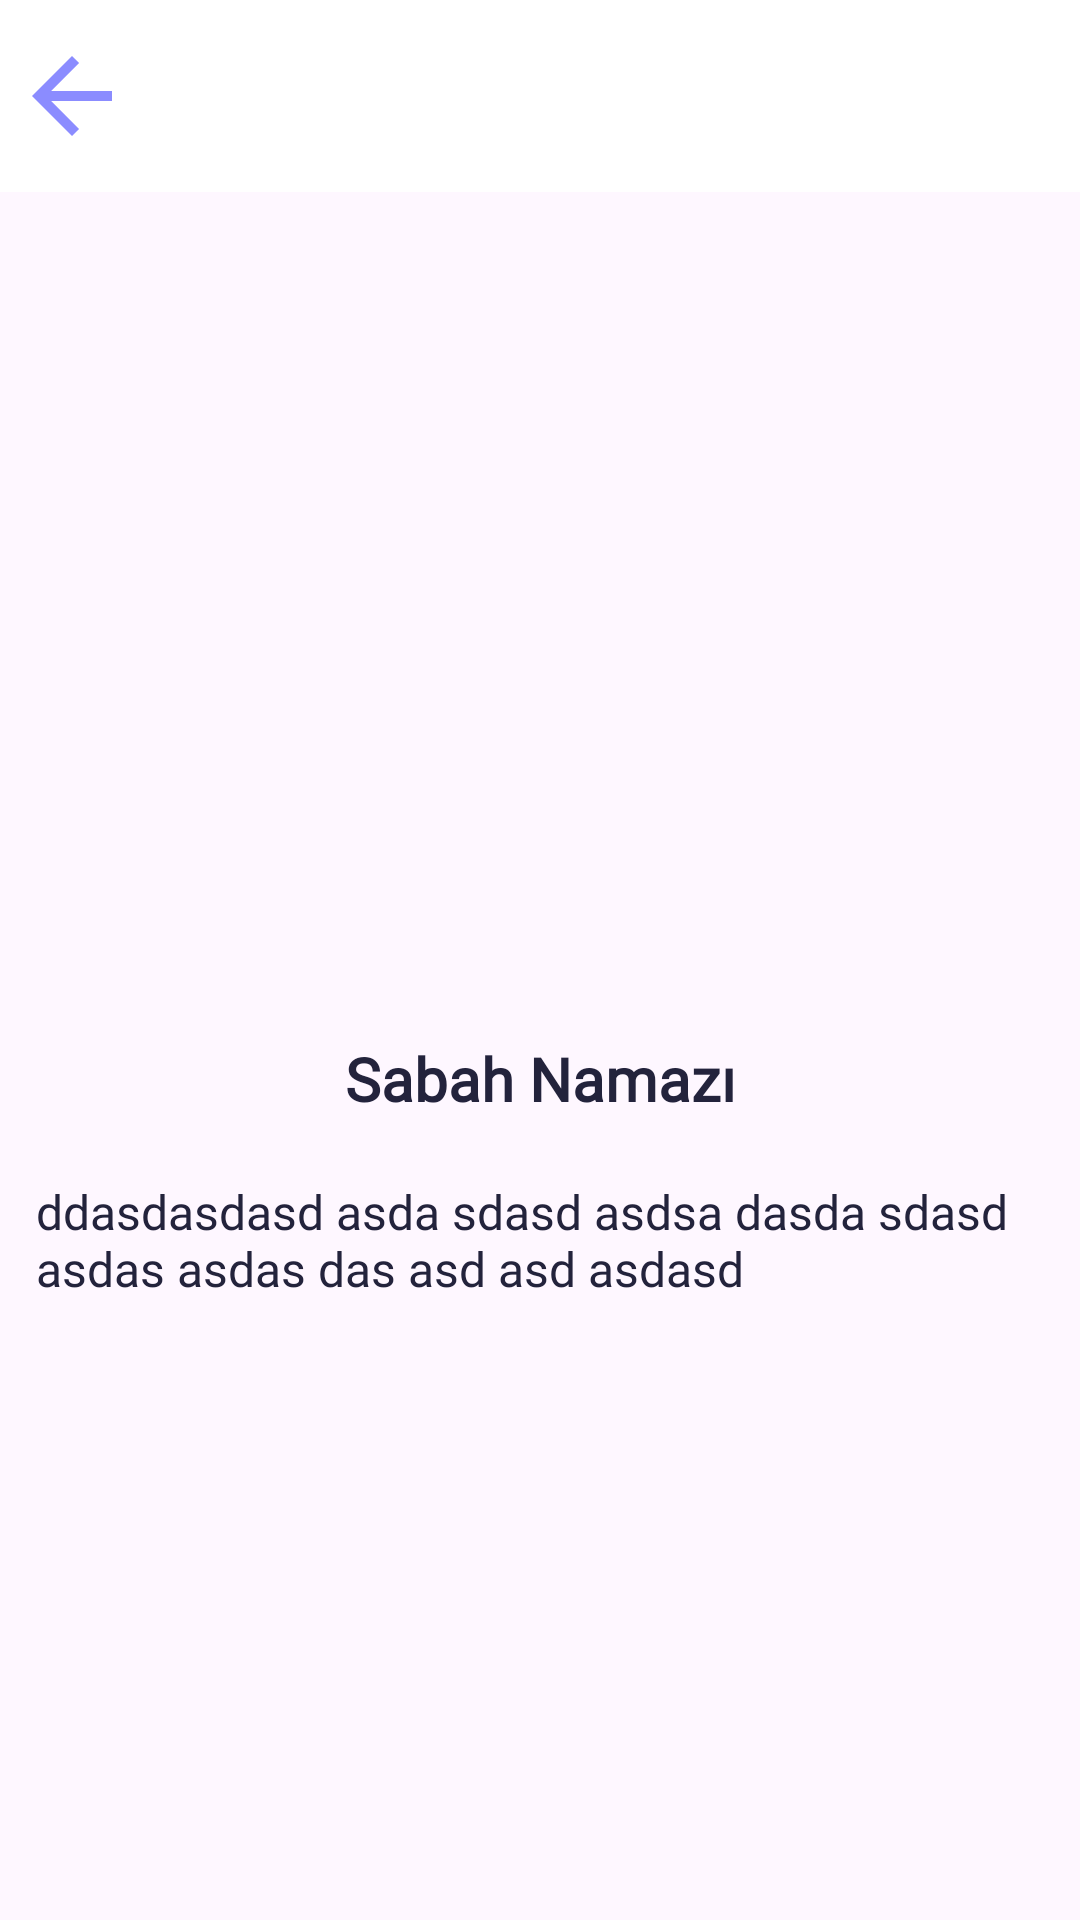

Screen size 1080x1920. Icon name, then its center in pixels as point (x, y):
back: point (72, 96)
